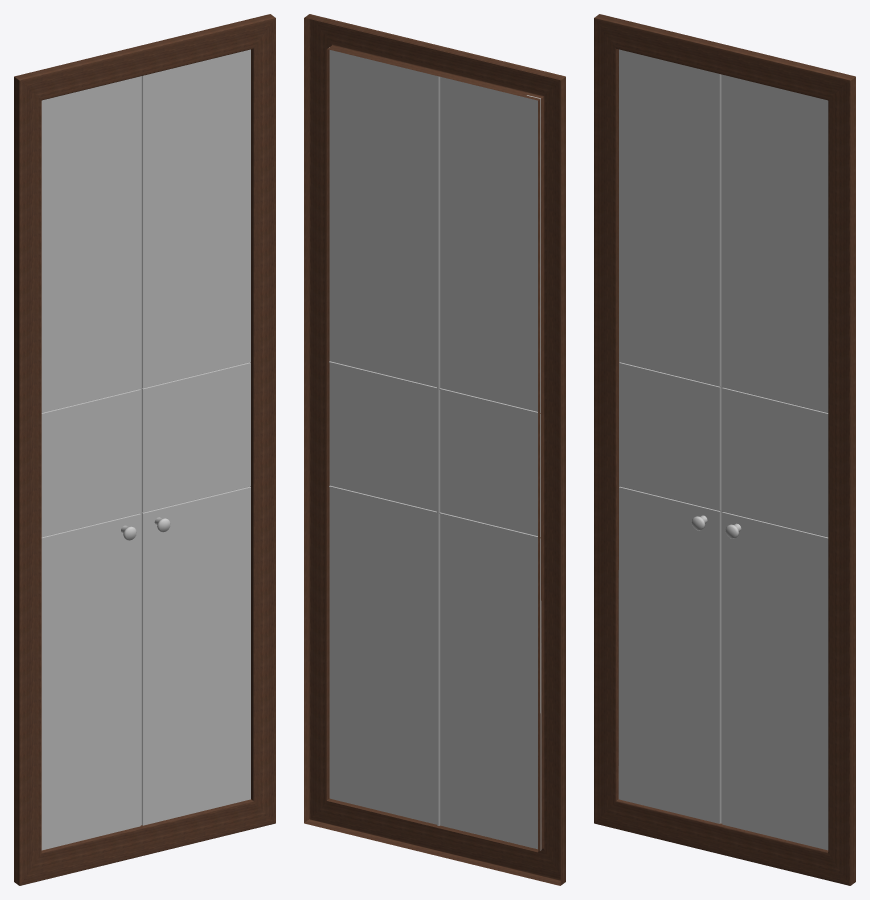
File: QD_3BR_ET_Fixed_Closet_UN.FBX
The picture shows the model from 3 angles, left to right: view 1: azimuth 30°, elevation 25°; view 2: azimuth 150°, elevation 25°; view 3: azimuth 330°, elevation 25°; orthographic projection.
Visible parts, largest first — view 1: Door_01, Door_02, Frame; view 2: Door_01, Door_02, Frame; view 3: Door_01, Door_02, Frame.
Boxes of the visible parts, x1,y1,x2,y2 form: Door_01: (141, 49, 250, 825); Door_02: (41, 76, 140, 850); Frame: (14, 14, 275, 885); Door_01: (329, 47, 438, 825); Door_02: (438, 76, 541, 850); Frame: (304, 14, 565, 885); Door_01: (721, 74, 828, 850); Door_02: (618, 49, 721, 823); Frame: (594, 14, 855, 885).
Bounding box in the file's own units: 0.9 × 2.7 × 0.0609.
